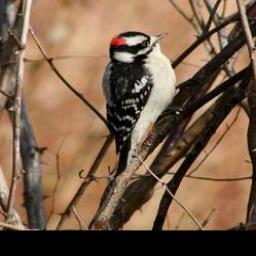Woodpecker: (103, 31, 182, 178)
